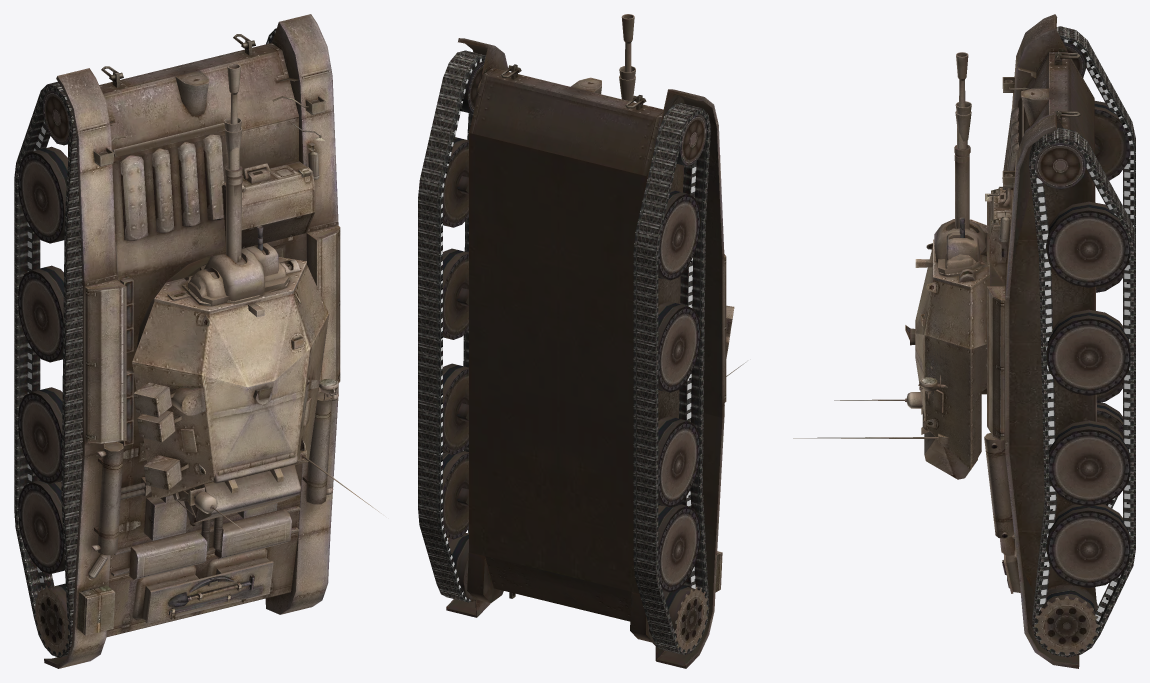
3 renders of one model, left to right at view 1: azimuth 30°, elevation 25°; view 2: azimuth 150°, elevation 25°; view 3: azimuth 270°, elevation 25°, orthographic. The views are drawn at different scales.
Visible parts, largest first — view 1: hull, turret_01, turret_02, chassis_track_L, chassis_wheel_L_02, chassis_wheel_L_03, chassis_wheel_L_04, chassis_wheel_L_05, chassis_wheel_L_06, gun_02, chassis_wheel_L_01, gun_05 (+1 smaller); view 2: hull, chassis_track_L, chassis_track_R, chassis_wheel_L_03, chassis_wheel_L_04, chassis_wheel_L_05, chassis_wheel_L_02, chassis_wheel_R_03, chassis_wheel_R_04, chassis_wheel_L_06, chassis_wheel_R_05, chassis_wheel_R_02 (+4 smaller); view 3: hull, chassis_track_R, turret_01, turret_02, chassis_wheel_R_03, chassis_wheel_R_04, chassis_wheel_R_05, chassis_wheel_R_02, chassis_wheel_R_06, chassis_track_L, chassis_wheel_L_02, chassis_wheel_R_01 (+3 smaller).
Part boxes in pixels (left/top/right/bottom): hull: left=44, top=14, right=340, bottom=668; turret_01: left=132, top=254, right=328, bottom=537; turret_02: left=133, top=243, right=381, bottom=523; chassis_track_L: left=14, top=81, right=82, bottom=657; chassis_wheel_L_02: left=18, top=146, right=68, bottom=243; chassis_wheel_L_03: left=18, top=265, right=63, bottom=362; chassis_wheel_L_04: left=18, top=387, right=62, bottom=483; chassis_wheel_L_05: left=18, top=480, right=64, bottom=573; chassis_wheel_L_06: left=34, top=583, right=69, bottom=655; gun_02: left=224, top=117, right=242, bottom=262; chassis_wheel_L_01: left=42, top=90, right=69, bottom=145; gun_05: left=224, top=127, right=265, bottom=264; hull: left=446, top=38, right=726, bottom=668; chassis_track_L: left=633, top=103, right=710, bottom=654; chassis_track_R: left=418, top=50, right=485, bottom=602; chassis_wheel_L_03: left=658, top=301, right=700, bottom=392; chassis_wheel_L_04: left=658, top=416, right=699, bottom=507; chassis_wheel_L_05: left=658, top=504, right=700, bottom=592; chassis_wheel_L_02: left=658, top=189, right=700, bottom=280; chassis_wheel_R_03: left=443, top=248, right=468, bottom=339; chassis_wheel_R_04: left=443, top=363, right=468, bottom=454; chassis_wheel_L_06: left=647, top=585, right=708, bottom=652; chassis_wheel_R_05: left=443, top=451, right=468, bottom=539; chassis_wheel_R_02: left=443, top=137, right=468, bottom=227; hull: left=984, top=14, right=1099, bottom=668; chassis_track_R: left=1029, top=127, right=1135, bottom=657; turret_01: left=834, top=219, right=1004, bottom=470; turret_02: left=793, top=219, right=989, bottom=479; chassis_wheel_R_03: left=1046, top=309, right=1130, bottom=395; chassis_wheel_R_04: left=1049, top=420, right=1130, bottom=506; chassis_wheel_R_05: left=1046, top=504, right=1130, bottom=587; chassis_wheel_R_02: left=1046, top=201, right=1130, bottom=287; chassis_wheel_R_06: left=1034, top=583, right=1099, bottom=655; chassis_track_L: left=1056, top=26, right=1135, bottom=508; chassis_wheel_L_02: left=1094, top=101, right=1130, bottom=180; chassis_wheel_R_01: left=1034, top=142, right=1086, bottom=189.
Size of the model in its own units: 2.59 by 5.97 by 3.45.
Materials: 2 (2 with a texture image).
